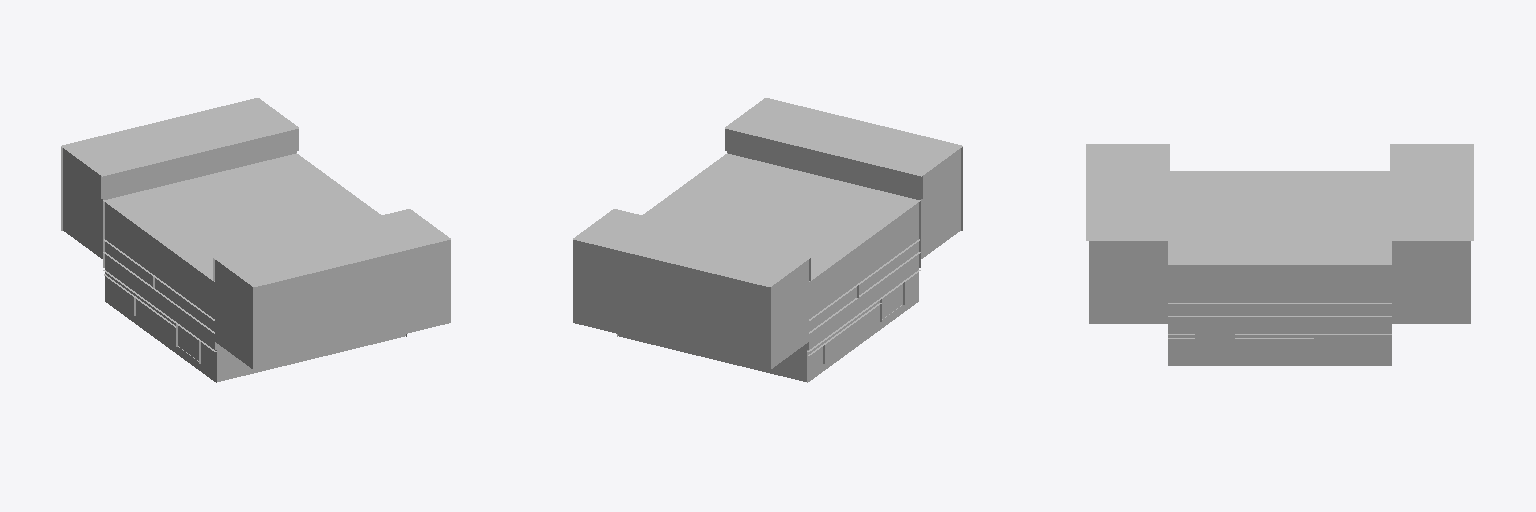
Rendered from map.obj.
3 renders of one model, left to right at view 1: azimuth 30°, elevation 25°; view 2: azimuth 150°, elevation 25°; view 3: azimuth 270°, elevation 25°, orthographic.
Parts seen in each view (by area): view 1: cs480_final_cs480_final.004; view 2: cs480_final_cs480_final.004; view 3: cs480_final_cs480_final.004.
Part boxes in pixels (bbox=[...]): cs480_final_cs480_final.004: bbox=[61, 98, 450, 382]; cs480_final_cs480_final.004: bbox=[573, 98, 962, 382]; cs480_final_cs480_final.004: bbox=[1086, 144, 1473, 365].
Size of the model in its own units: 1568 by 960 by 2656.